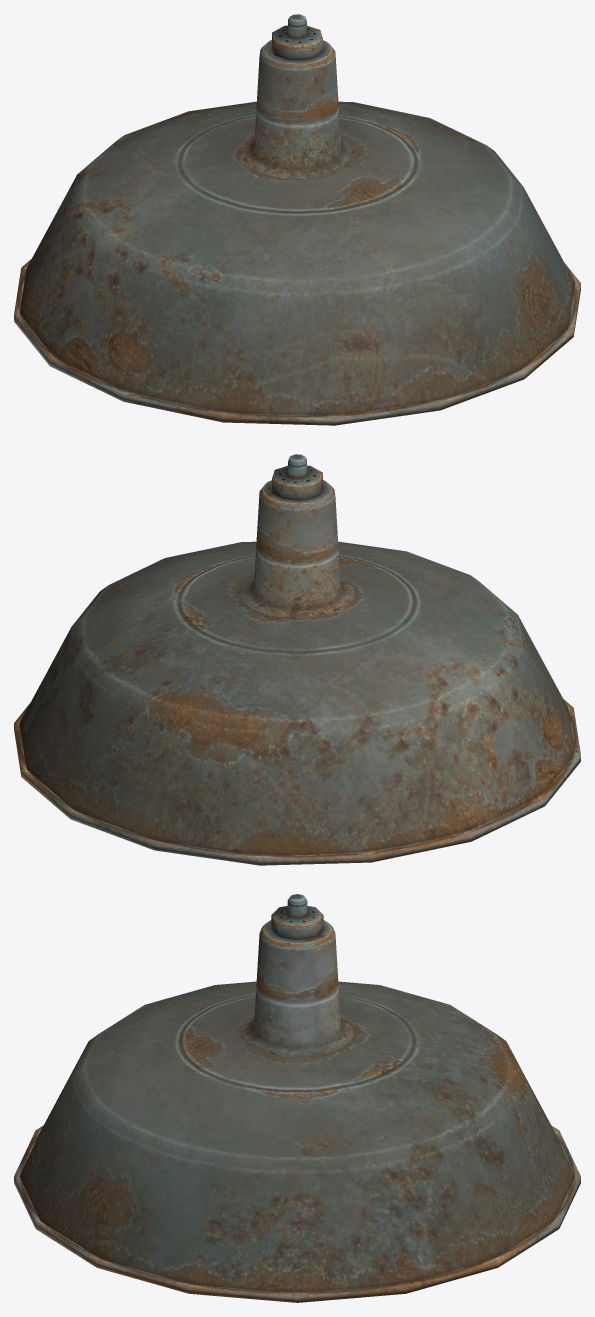
File: ceilingLight.FBX
The picture shows the model from 3 angles, top to bottom: view 1: azimuth 30°, elevation 25°; view 2: azimuth 150°, elevation 25°; view 3: azimuth 270°, elevation 25°; orthographic projection.
Parts seen in each view (by area): view 1: CeilingLampShort:0; view 2: CeilingLampShort:0; view 3: CeilingLampShort:0.
Part boxes in pixels (bbox=[...]): CeilingLampShort:0: bbox=[14, 14, 580, 425]; CeilingLampShort:0: bbox=[14, 454, 580, 865]; CeilingLampShort:0: bbox=[14, 894, 580, 1302].
Size of the model in its own units: 30.58 by 18.31 by 30.58.
